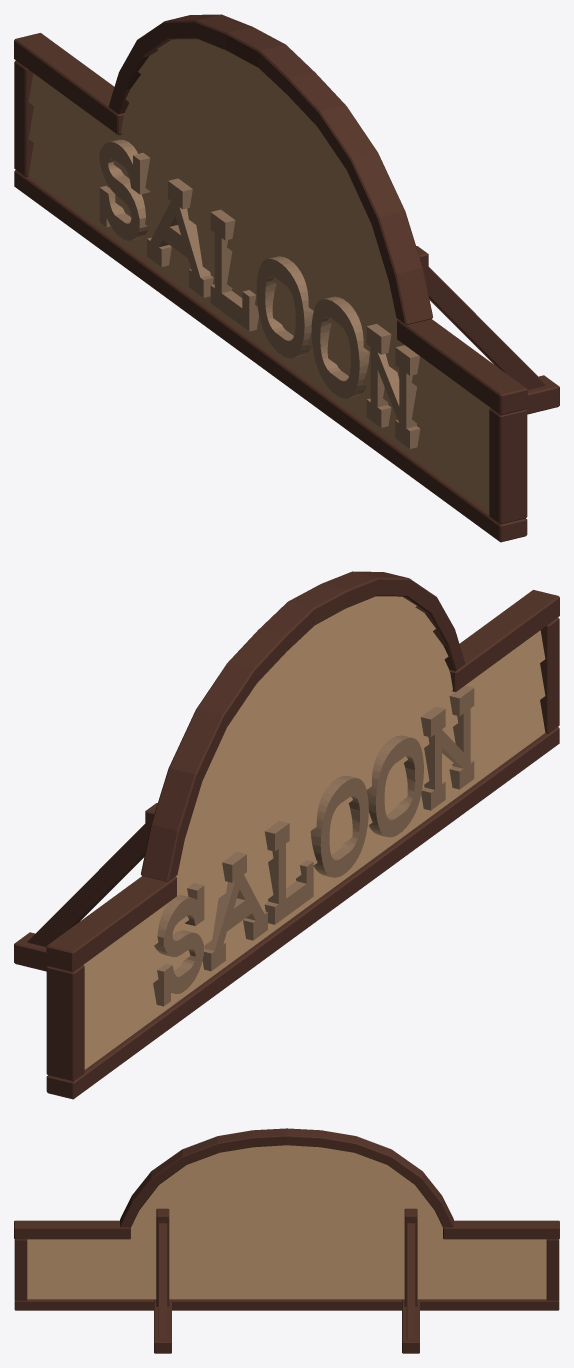
File: saloon-sign-b.glb
The picture shows the model from 3 angles, top to bottom: view 1: azimuth 30°, elevation 25°; view 2: azimuth 150°, elevation 25°; view 3: azimuth 270°, elevation 25°; orthographic projection. The views are drawn at different scales.
Parts seen in each view (by area): view 1: Saloon Sign B (×3); view 2: Saloon Sign B (×3); view 3: Saloon Sign B (×2).
Part boxes in pixels (x1,y1,x2,y2): Saloon Sign B (×3): (14,14,559,542); Saloon Sign B (×3): (14,571,559,1099); Saloon Sign B (×2): (14,1128,559,1353).
Size of the model in its own units: 1.46 by 2.35 by 6.6.
